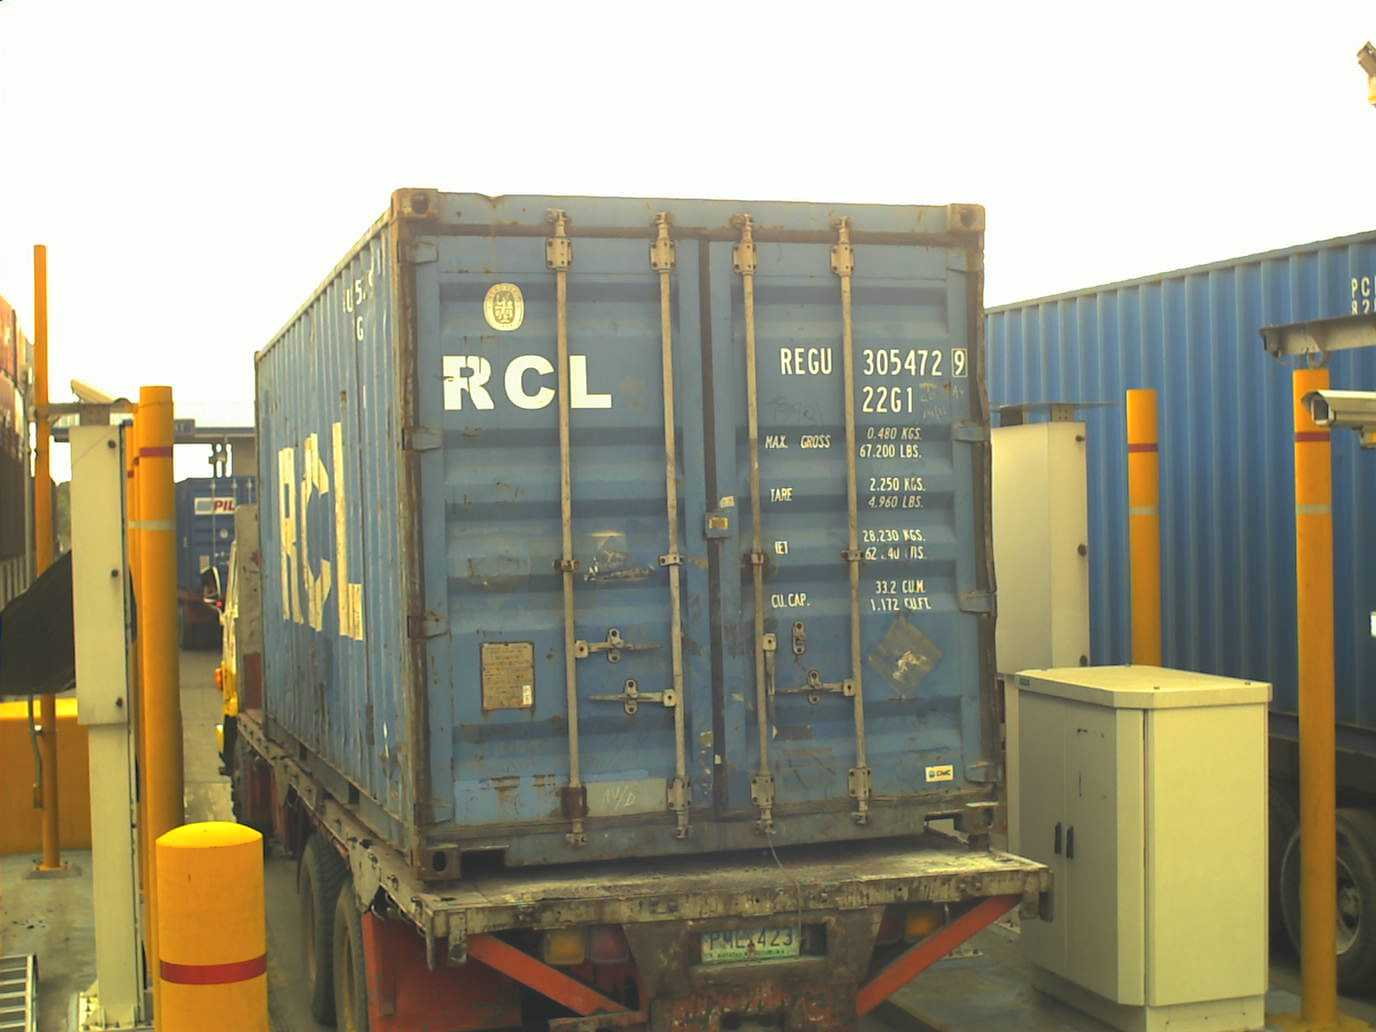container_door: (388, 186, 1002, 862)
